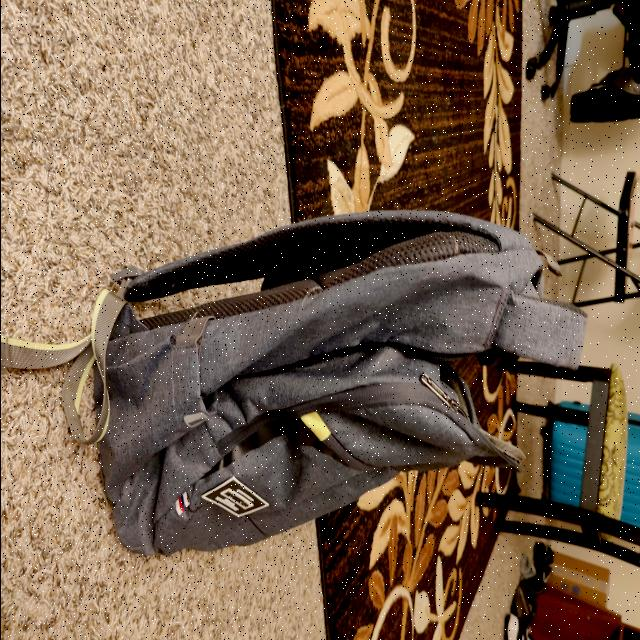bag: (86, 218, 580, 512)
